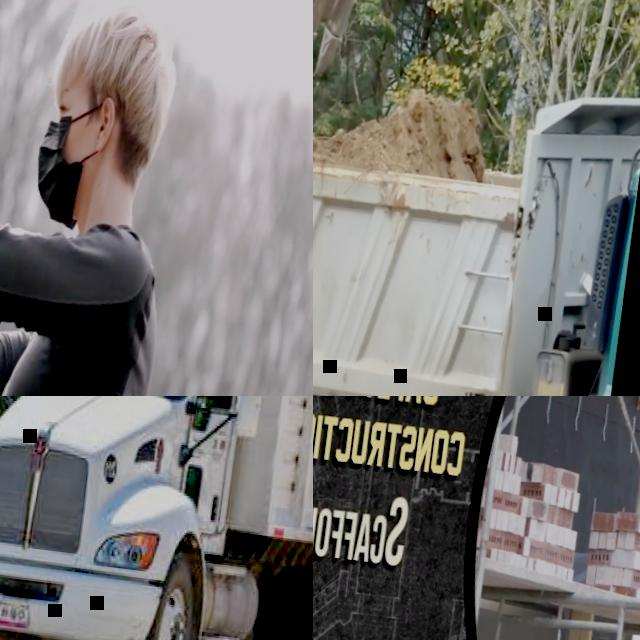machinery: (313, 16, 640, 396), (0, 396, 313, 640)
mask: (30, 112, 92, 227)
no_helmet: (59, 2, 182, 104)
no_vest: (0, 228, 169, 396)
person: (0, 0, 202, 396)
